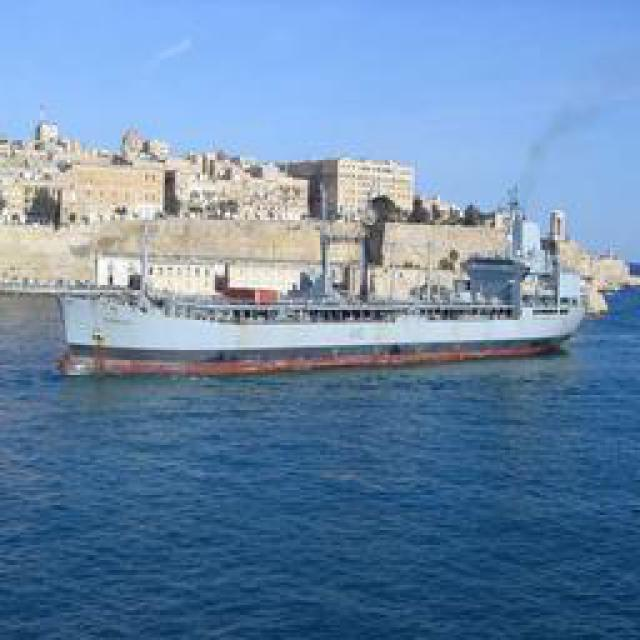Ship: (51, 260, 584, 380)
